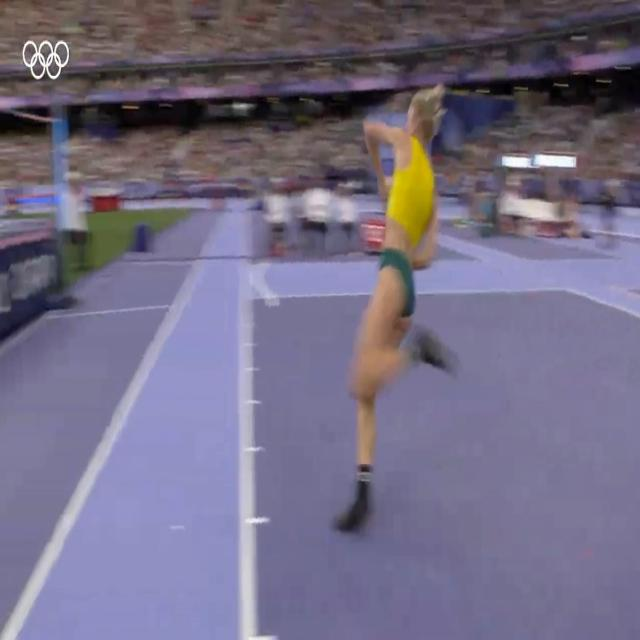run: (330, 85, 460, 534)
